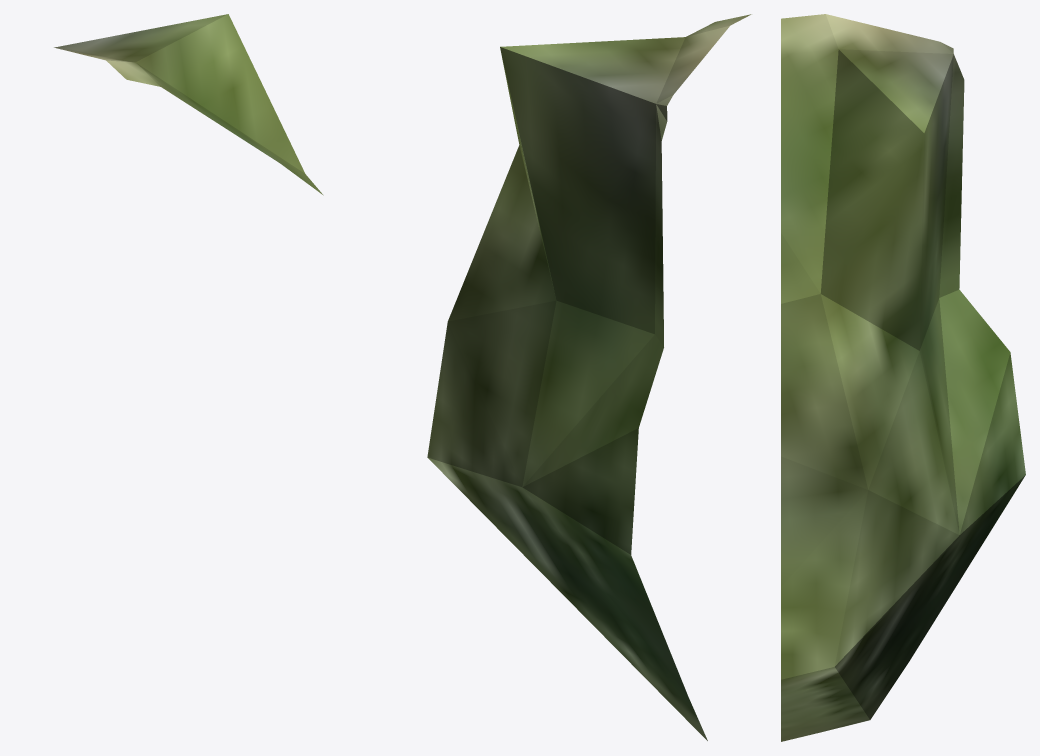
3 views of the same model, side by side, from view 1: azimuth 30°, elevation 25°; view 2: azimuth 150°, elevation 25°; view 3: azimuth 270°, elevation 25° (orthographic). The views are drawn at different scales.
Bounding box in the file's own units: 1.53 × 3.53 × 1.08.
Materials: 1 (1 with a texture image).
